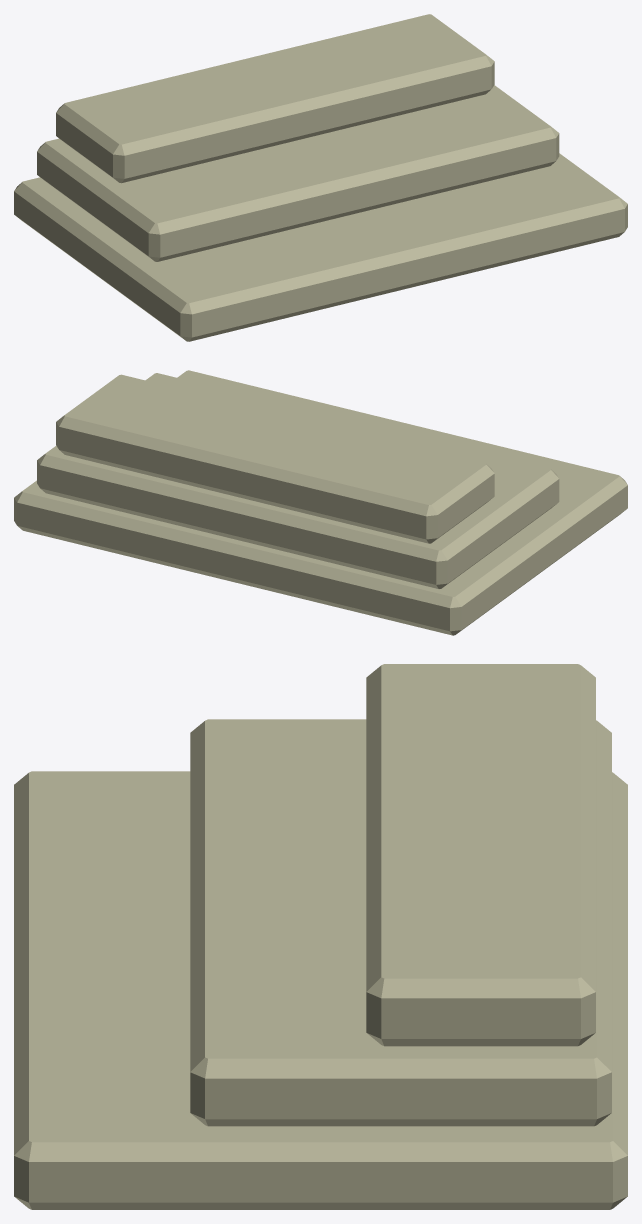
File: CottageStep.glb
3 renders of one model, top to bottom at view 1: azimuth 30°, elevation 25°; view 2: azimuth 150°, elevation 25°; view 3: azimuth 270°, elevation 25°, orthographic. The views are drawn at different scales.
Parts seen in each view (by area): view 1: CottageStep; view 2: CottageStep; view 3: CottageStep.
Boxes of the visible parts, x1,y1,x2,y2 form: CottageStep: [14, 14, 627, 341]; CottageStep: [14, 370, 627, 635]; CottageStep: [14, 664, 627, 1209].
Bounding box in the file's own units: 1.7 × 0.42 × 1.15.
